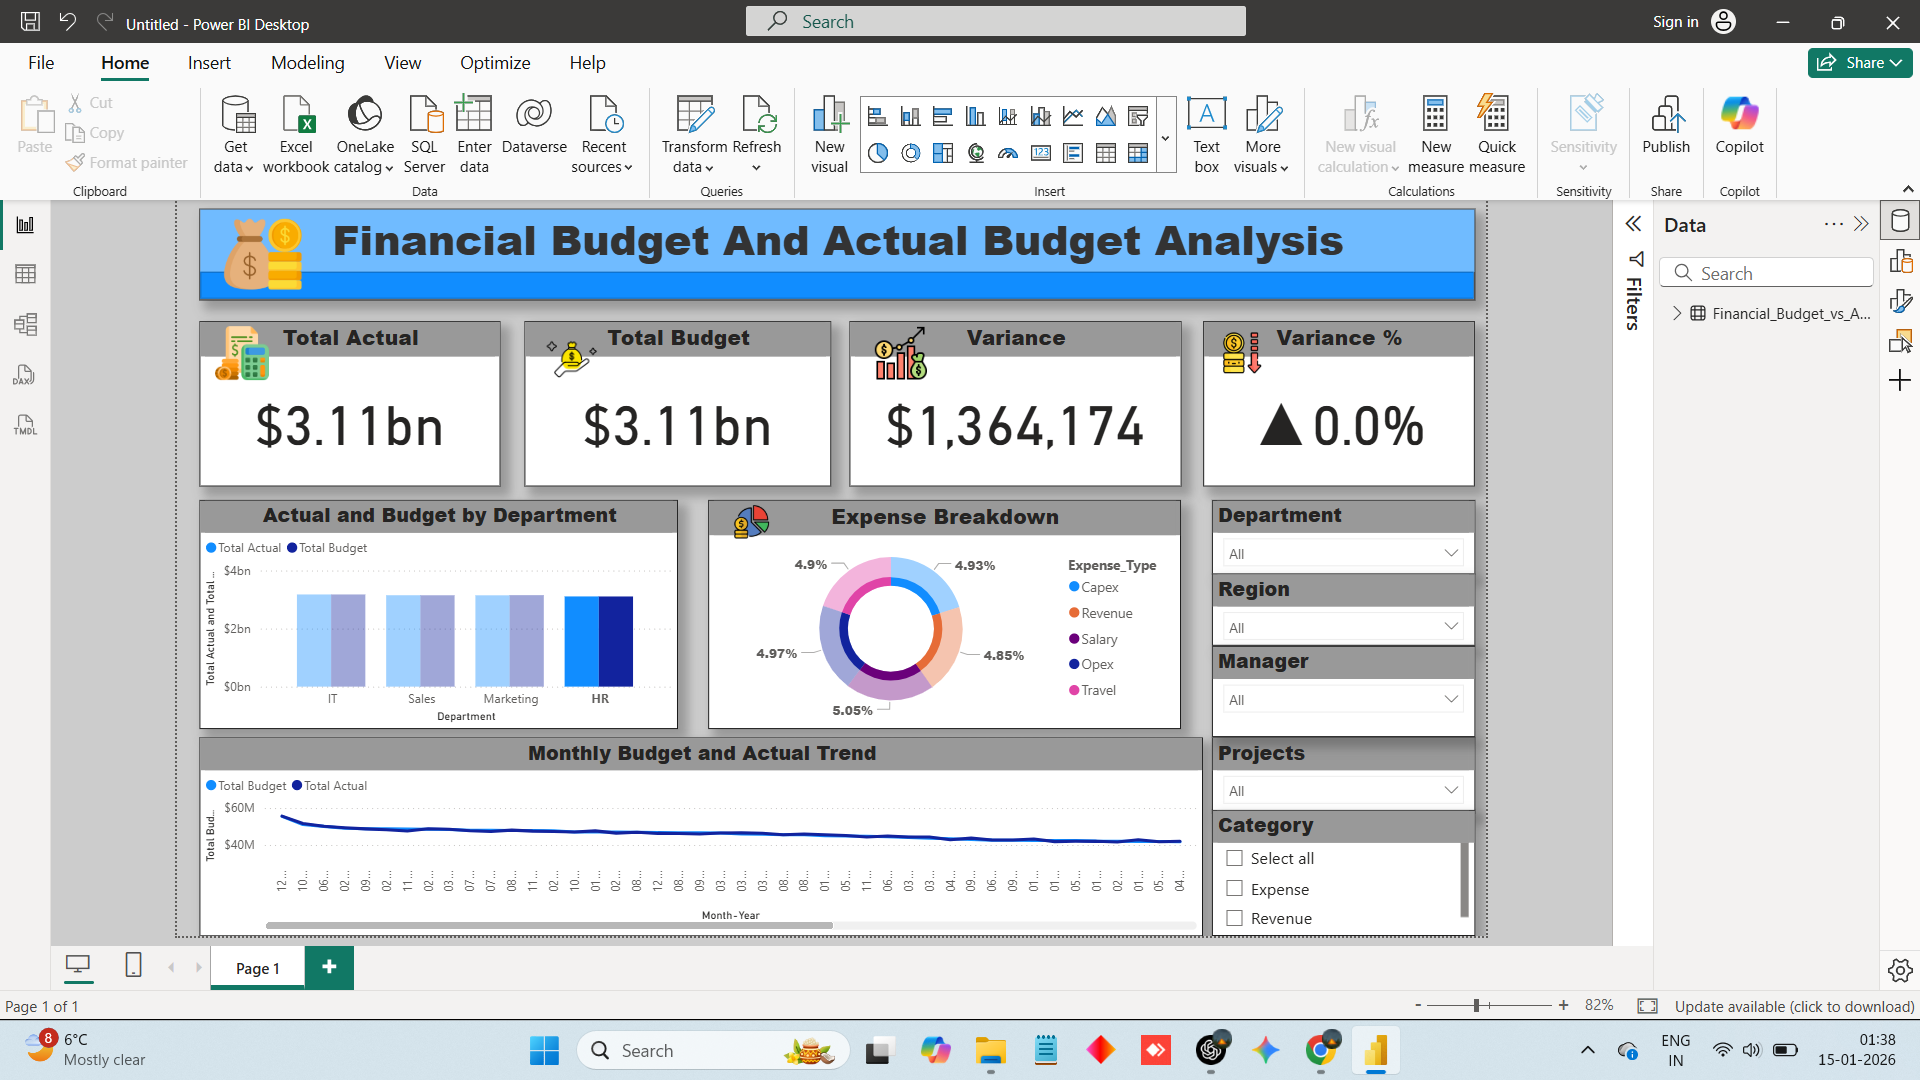

This screenshot's page, from the dashboard's own definition file:
{"tool":"powerbi","page":{"name":"Page 1","canvas":[1280,720],"ordinal":0},"visuals":[{"type":"card","title":"Total Actual","fields":{"Values":["Financial_Budget_vs_Actual.Total Actual"]},"box":[21.6,118.3,294.3,161.6],"z":0},{"type":"card","title":"Total Budget","fields":{"Values":["Financial_Budget_vs_Actual.Total Budget"]},"box":[340.5,118.3,300.1,161.6],"z":1000},{"type":"card","title":"Variance %","fields":{"Values":["Financial_Budget_vs_Actual.% Variance"]},"box":[1004.2,118.3,265.5,161.6],"z":2000},{"type":"card","title":"Variance","fields":{"Values":["Financial_Budget_vs_Actual.Variance Measure"]},"box":[657.9,118.3,324.6,161.6],"z":3000},{"type":"shape","title":"Financial Budget And Actual Budget Analysis","box":[21.6,8.7,1248,89.5],"z":4000},{"type":"clusteredColumnChart","title":"Actual and Budget by Department","fields":{"Category":["Financial_Budget_vs_Actual.Department"],"Y":["Financial_Budget_vs_Actual.Total Actual","Financial_Budget_vs_Actual.Total Budget"]},"box":[22,293.5,468.3,223.8],"z":5000},{"type":"donutChart","title":"Expense Breakdown","fields":{"Category":["Financial_Budget_vs_Actual.Expense_Type"],"Y":["Financial_Budget_vs_Actual.Total Actual"]},"box":[519.7,293.5,462.2,223.8],"z":6000},{"type":"lineChart","title":"Monthly Budget and Actual Trend","fields":{"Category":["Financial_Budget_vs_Actual.Month-Year"],"Y":["Financial_Budget_vs_Actual.Total Budget","Financial_Budget_vs_Actual.Total Actual"]},"box":[22,525.8,981.9,194.4],"z":7000},{"type":"slicer","title":"Department","fields":{"Values":["Financial_Budget_vs_Actual.Department"]},"box":[1012.9,293.5,257.3,72.5],"z":8000},{"type":"slicer","title":"Region","fields":{"Values":["Financial_Budget_vs_Actual.Region"]},"box":[1012.9,366,257.3,70.7],"z":9000},{"type":"slicer","title":"Projects","fields":{"Values":["Financial_Budget_vs_Actual.Project"]},"box":[1012.9,525.5,257.3,74.3],"z":10000},{"type":"slicer","title":"Manager","fields":{"Values":["Financial_Budget_vs_Actual.Manager"]},"box":[1012.9,436.7,257.3,88.8],"z":11000},{"type":"slicer","title":"Category","fields":{"Values":["Financial_Budget_vs_Actual.Category"]},"box":[1012.9,596.2,257.3,123.2],"z":13000},{"type":"image","box":[22,8.6,124.7,89.3],"z":13001},{"type":"image","box":[539.3,280,47.7,69.7],"z":13002},{"type":"image","box":[22,118.6,83.2,62.4],"z":13003},{"type":"image","box":[1012.5,124.7,59.9,50.1],"z":13004},{"type":"image","box":[673.8,118.6,68.5,62.4],"z":13005},{"type":"image","box":[352.2,118.6,68.5,74.6],"z":13006}]}

Visuals, with their boxes on the page's 1280x720 design canvas (x1, y1, x2, y2). These are canvas units, not pixel positions in the 1920x1080 screenshot, which may show the page scaled, cropped or inside an application window:
"Total Actual" card: region(22, 118, 316, 280)
"Total Budget" card: region(340, 118, 641, 280)
"Variance %" card: region(1004, 118, 1270, 280)
"Variance" card: region(658, 118, 982, 280)
"Financial Budget And Actual Budget Analysis" shape: region(22, 9, 1270, 98)
"Actual and Budget by Department" clusteredColumnChart: region(22, 294, 490, 517)
"Expense Breakdown" donutChart: region(520, 294, 982, 517)
"Monthly Budget and Actual Trend" lineChart: region(22, 526, 1004, 720)
"Department" slicer: region(1013, 294, 1270, 366)
"Region" slicer: region(1013, 366, 1270, 437)
"Projects" slicer: region(1013, 526, 1270, 600)
"Manager" slicer: region(1013, 437, 1270, 526)
"Category" slicer: region(1013, 596, 1270, 719)
image: region(22, 9, 147, 98)
image: region(539, 280, 587, 350)
image: region(22, 119, 105, 181)
image: region(1012, 125, 1072, 175)
image: region(674, 119, 742, 181)
image: region(352, 119, 421, 193)
